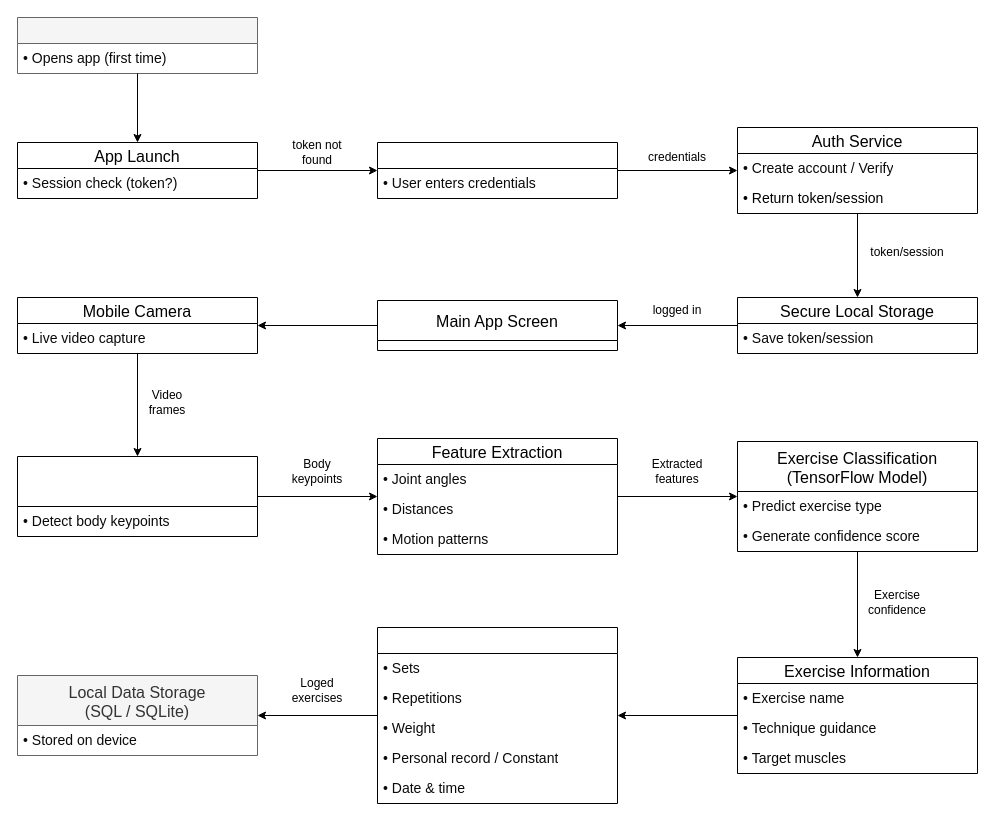
This 995x824 diagram has some shape labels left out. The shapes that lost their labels are listed below. From the top down, each one's box as (x1, y1, x2, y2) in pixels, then its label:
(16, 16, 258, 74): User
(376, 142, 618, 198): Sign Up / Log In Screen
(16, 456, 258, 536): Pose Estimation Module (MediaPipe)
(376, 626, 618, 804): Workout Logging Module
